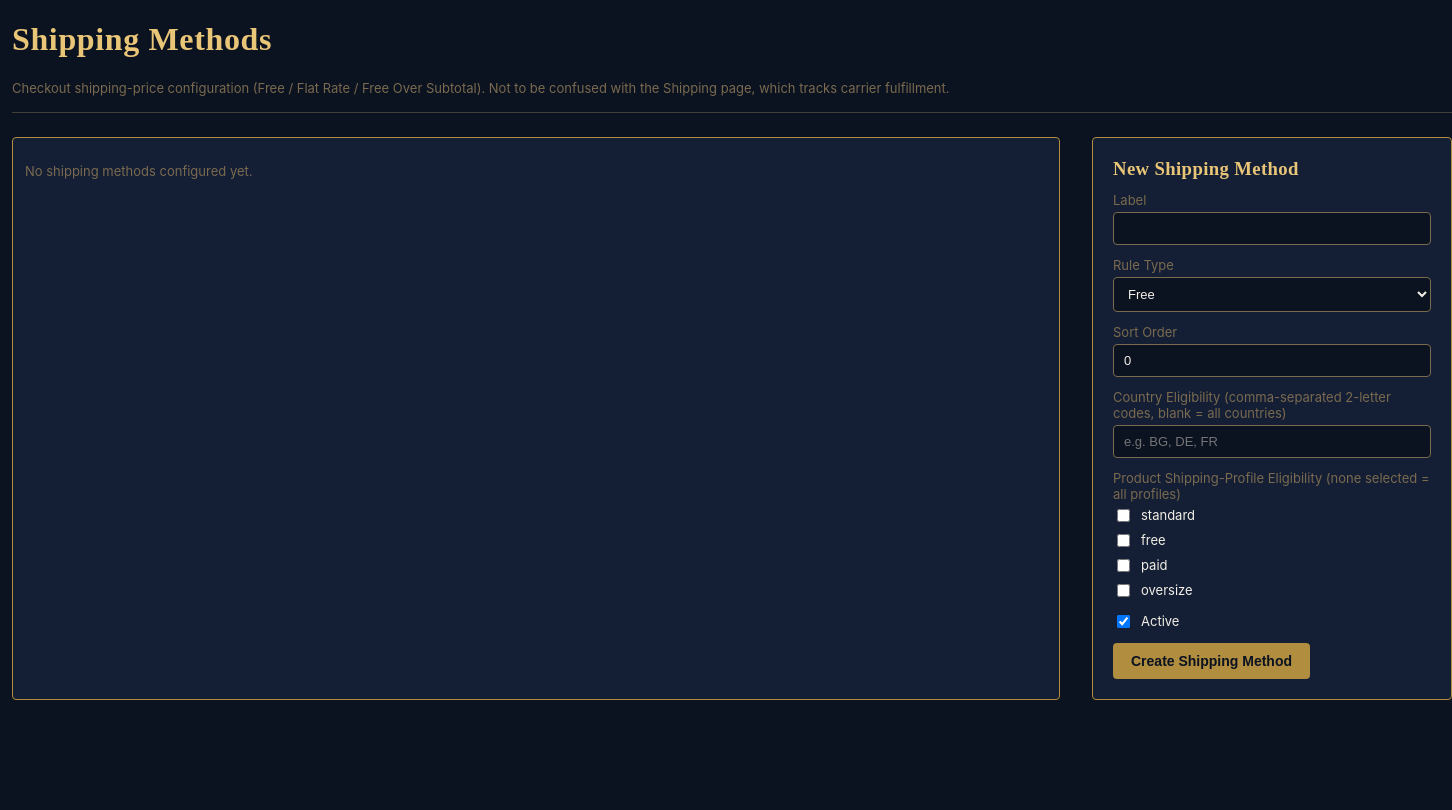
Scenario: Sprint 134 correction: Admin Shipping Methods page › 11. an API error is shown and never displayed as a false success
This screenshot has width=1452, height=810.
Expected: the text "No shipping methods configured yet." is shown, x1=25 y1=163 x2=252 y2=179
In the field labelled "Label": point(1272, 228) x1=1113 y1=212 x2=1431 y2=245, type "Duplicate"
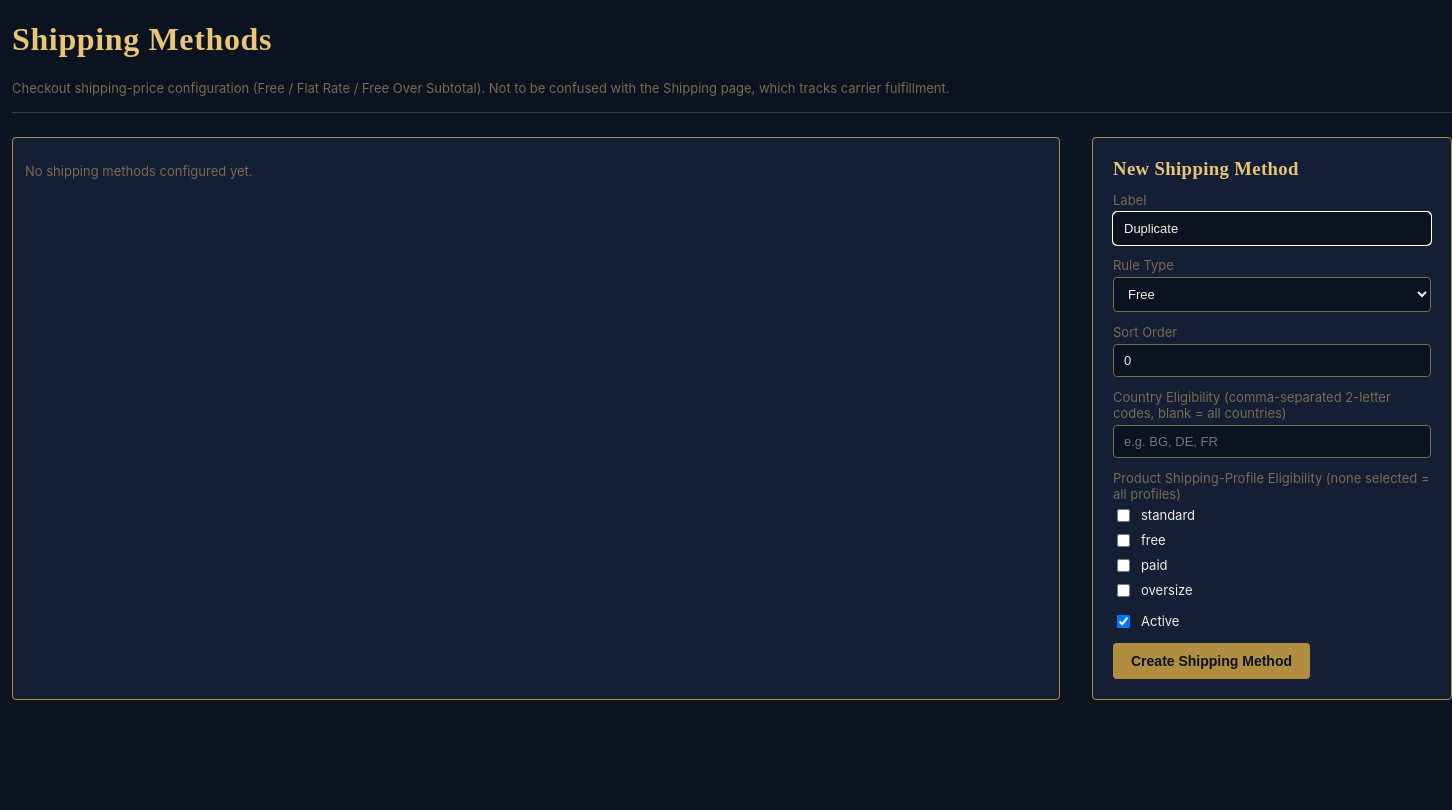
Select "Free" in the dropdown labelled "Rule Type": point(1272, 294) x1=1113 y1=277 x2=1431 y2=312
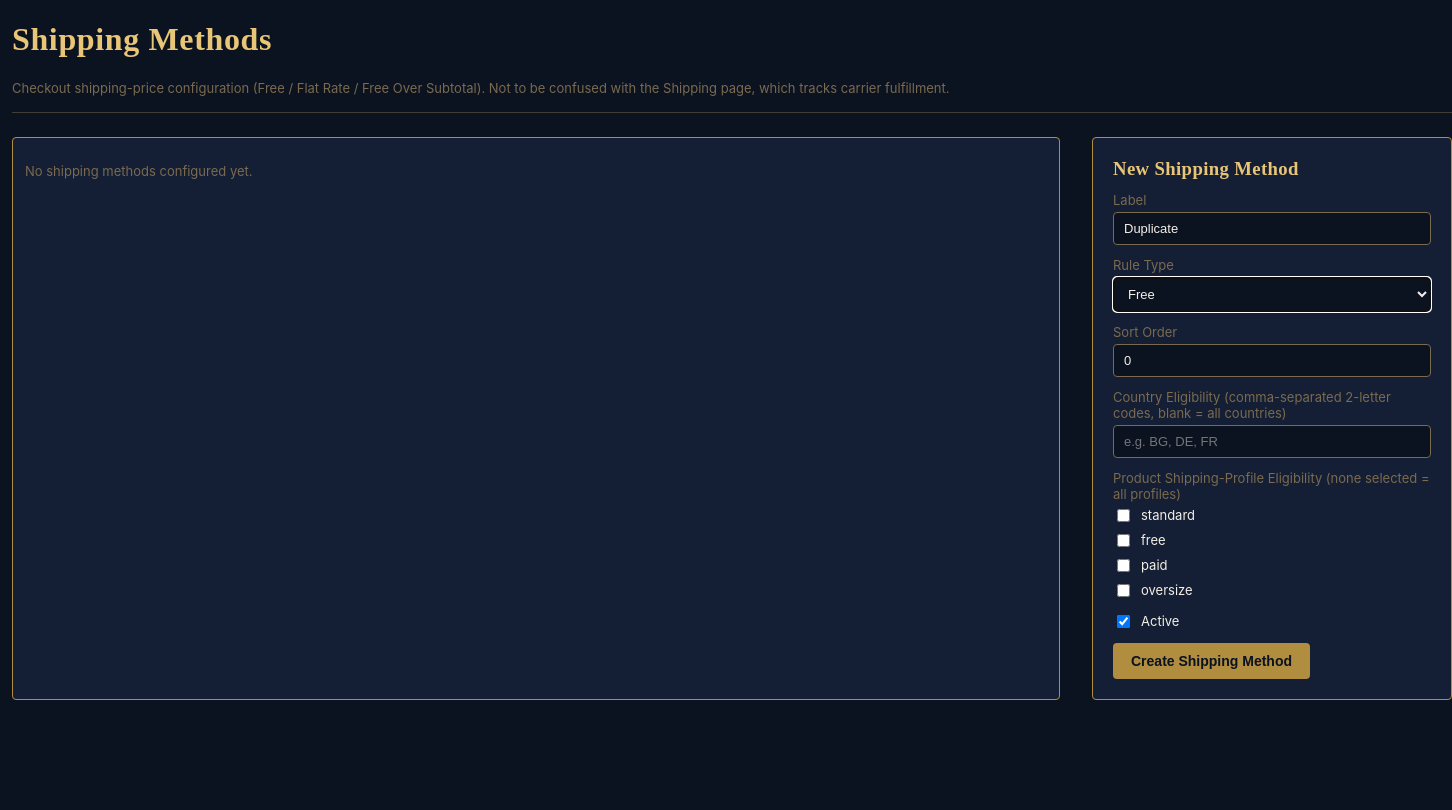
Click the button "Create Shipping Method": point(1212, 661) x1=1113 y1=643 x2=1310 y2=679
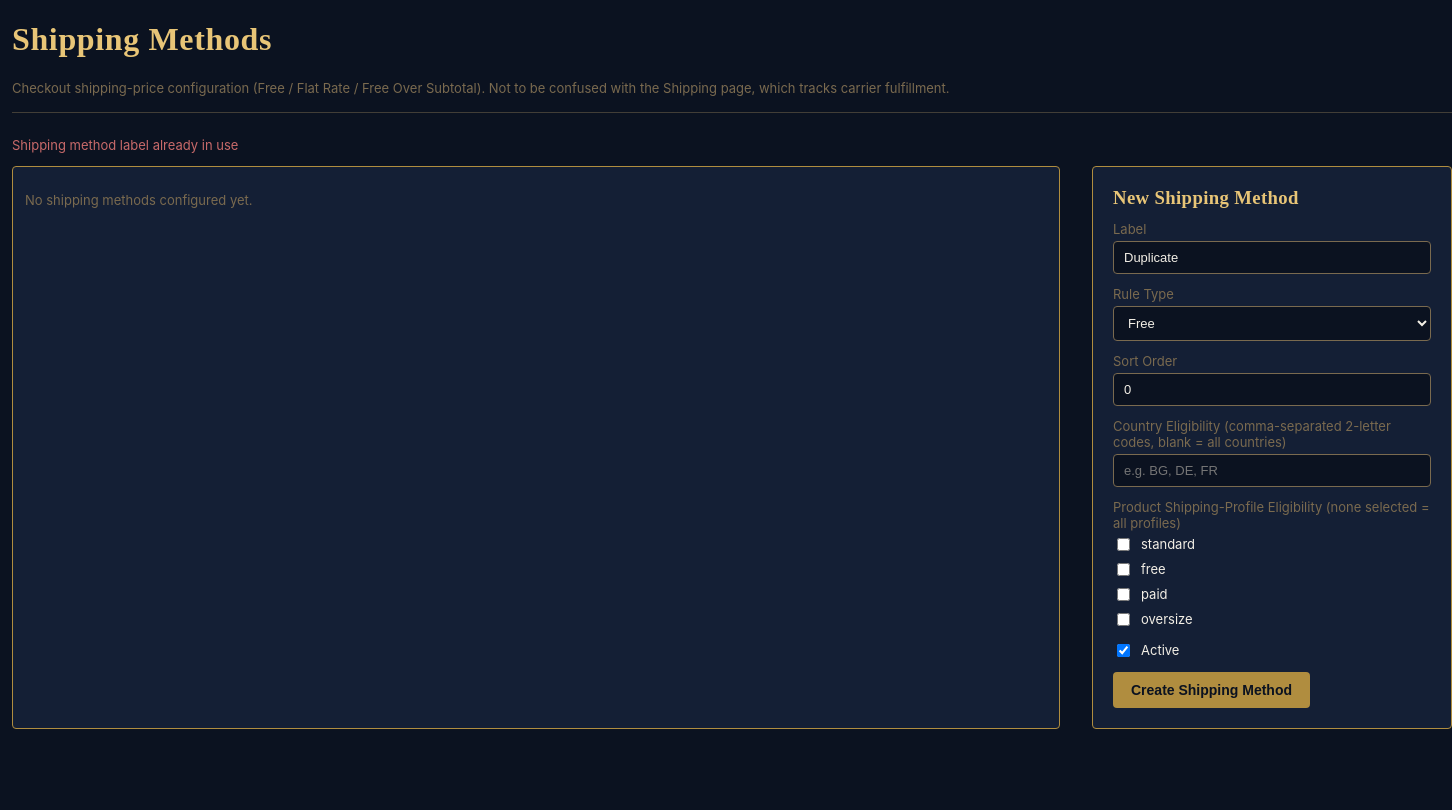
Expected: the text "Shipping method label already in use" is shown, x1=12 y1=137 x2=238 y2=153
